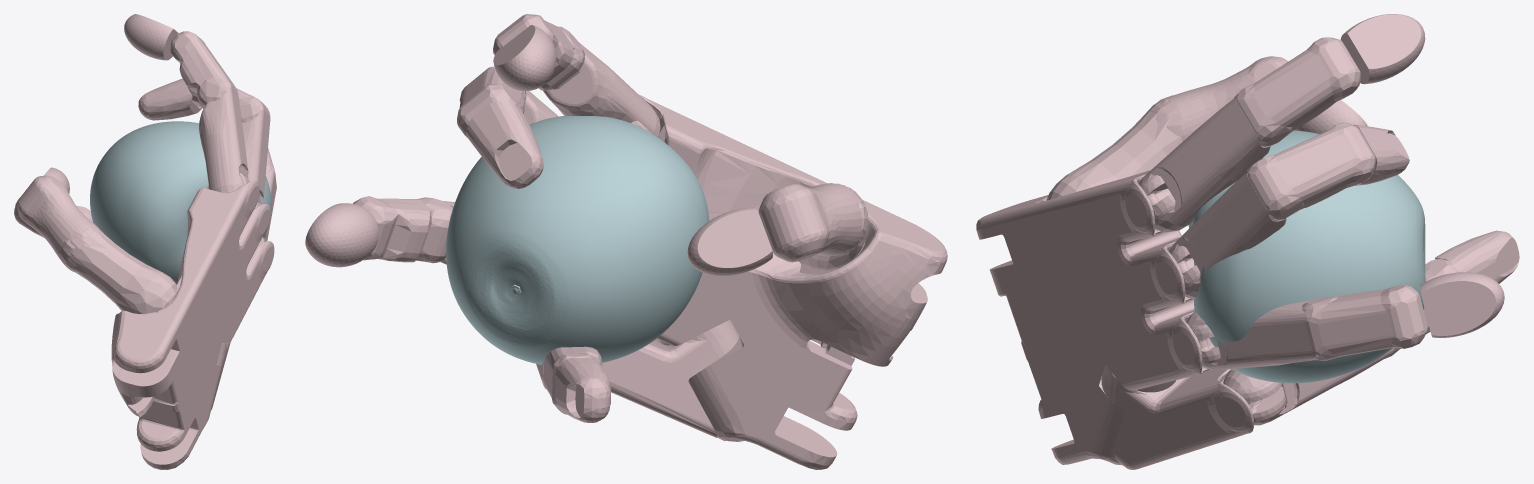
The model's file is grasp_3.glb.
3 renders of one model, left to right at view 1: azimuth 30°, elevation 25°; view 2: azimuth 150°, elevation 25°; view 3: azimuth 270°, elevation 25°, orthographic. The views are drawn at different scales.
Parts seen in each view (by area): view 1: world; view 2: world; view 3: world.
Boxes of the visible parts, x1=… form: world: x1=14, y1=14, x2=276, y2=469; world: x1=305, y1=14, x2=947, y2=469; world: x1=976, y1=14, x2=1519, y2=469.
Size of the model in its own units: 0.1452 by 0.1697 by 0.1638.
